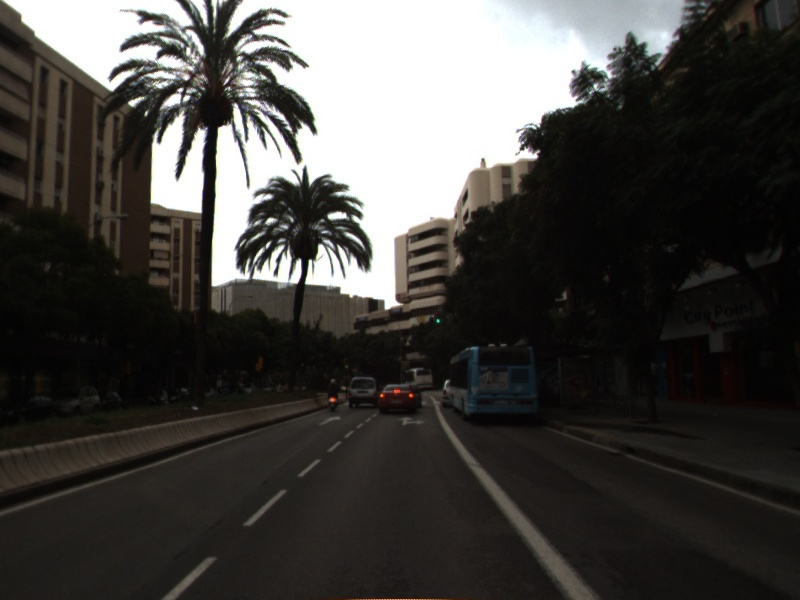STRAIGHT: (315, 414, 344, 428)
STRAIGHT_RIGHT: (395, 414, 428, 427)
